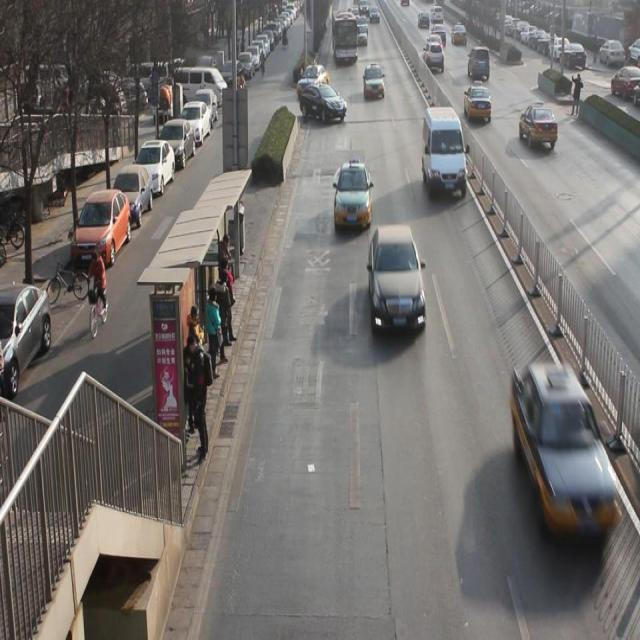car: (510, 363, 617, 550), (369, 230, 428, 338), (337, 160, 373, 228), (520, 104, 560, 152), (306, 85, 347, 124), (466, 87, 494, 122), (303, 61, 329, 97), (467, 46, 492, 80), (363, 64, 386, 98), (424, 42, 446, 77), (424, 34, 444, 55), (431, 23, 448, 45), (452, 24, 468, 46), (357, 24, 370, 47)
truck: (422, 106, 469, 201)
